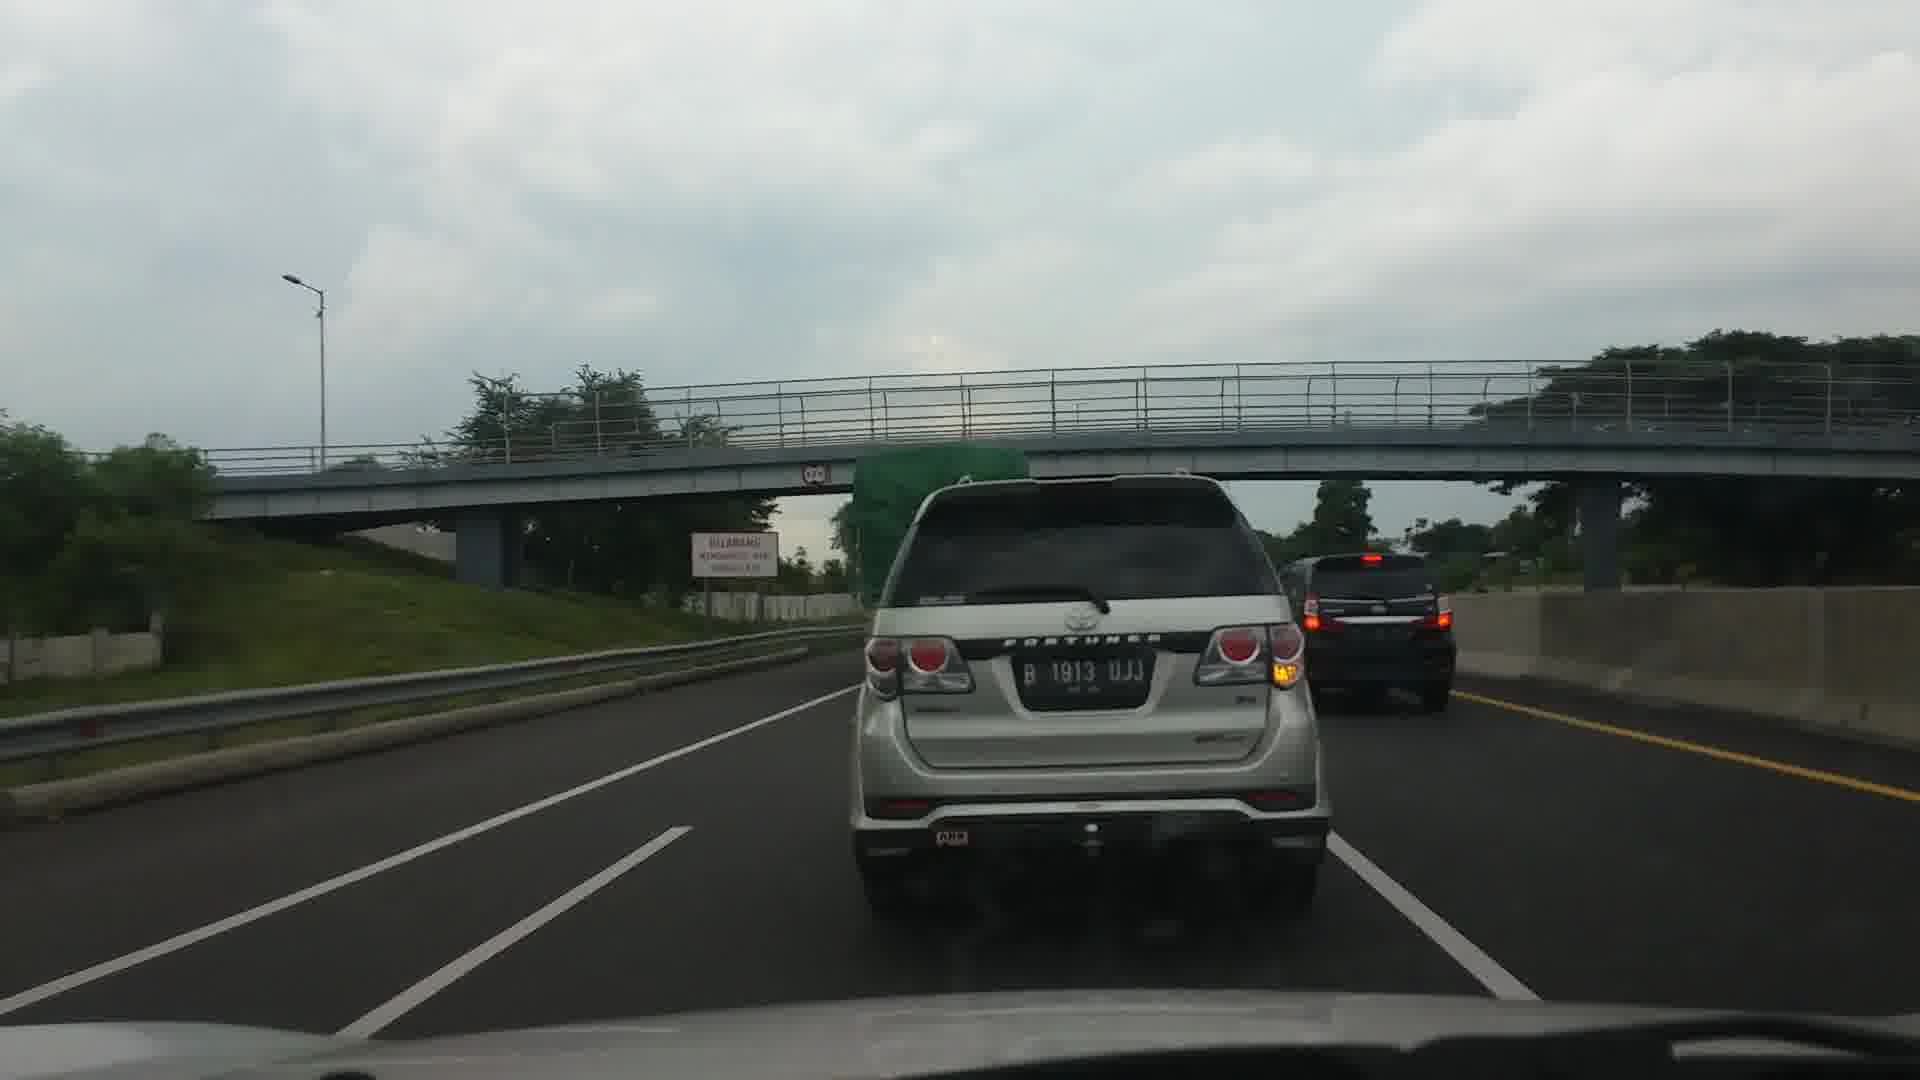plate_positive: (1021, 655, 1147, 698)
